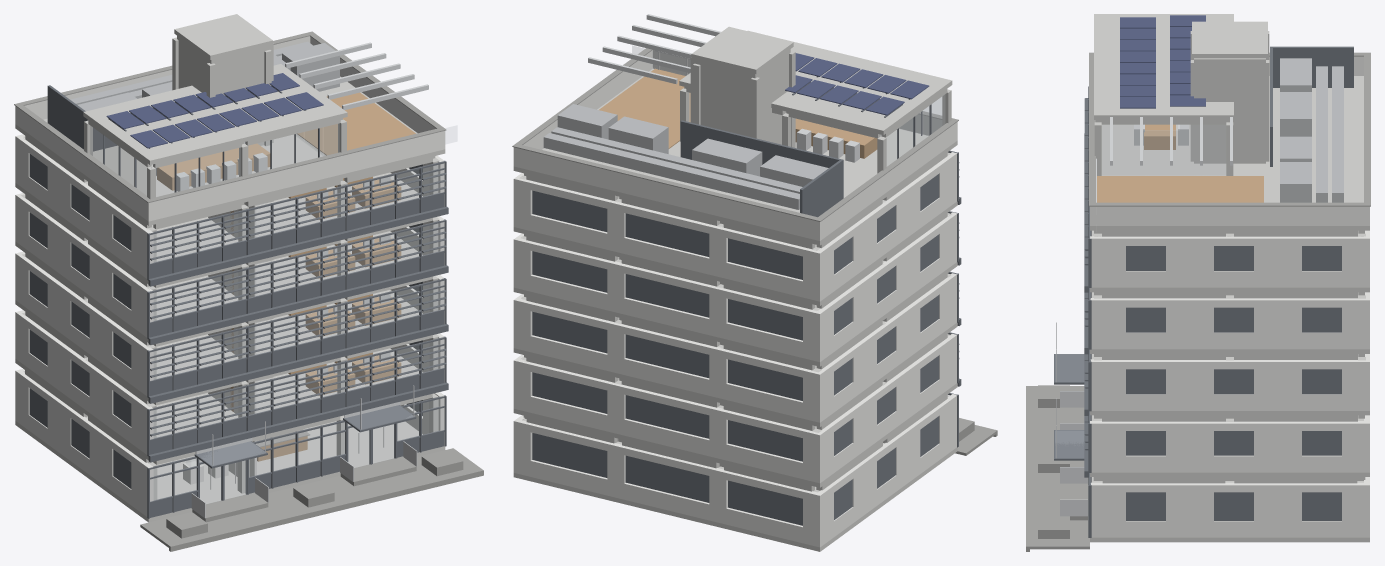
File: newton-from-floor-1.glb
3 views of the same model, side by side, from view 1: azimuth 30°, elevation 25°; view 2: azimuth 150°, elevation 25°; view 3: azimuth 270°, elevation 25° (orthographic). The views are drawn at different scales.
Visible parts, largest first — view 1: IFC IfcSlab 7173, IFC IfcSlab 5297, IFC IfcWall 18209, IFC IfcCovering 44681, IFC IfcSlab 5657, IFC IfcSlab 6377, IFC IfcSlab 6017, IFC IfcSlab 6737, IFC IfcSlab 7097, IFC IfcCovering 43161, IFC IfcSlab 7268, IFC IfcCovering 38741 (+65 smaller); view 2: IFC IfcWall 18228, IFC IfcSlab 7173, IFC IfcFlowSegment 44149, IFC IfcWall 7230, IFC IfcCovering 43161, IFC IfcSlab 7268, IFC IfcSlab 7116, IFC IfcWall 18247, IFC IfcWall 44187, IFC IfcWindow 13232, IFC IfcWindow 13308, IFC IfcWindow 13156 (+112 smaller); view 3: IFC IfcWall 7211, IFC IfcSlab 7173, IFC IfcWall 18266, IFC IfcSlab 7116, IFC IfcCovering 43161, IFC IfcCovering 44681, IFC IfcSlab 7097, IFC IfcSlab 7268, IFC IfcWall 12491, IFC IfcWall 12529, IFC IfcWall 13658, IFC IfcWall 13696 (+104 smaller).
Boxes of the visible parts, box(x1,y1,x2,y2) form: IFC IfcSlab 7173: box(83, 64, 347, 164); IFC IfcSlab 5297: box(99, 421, 445, 522); IFC IfcWall 18209: box(146, 131, 445, 221); IFC IfcCovering 44681: box(140, 448, 481, 547); IFC IfcSlab 5657: box(99, 349, 422, 459); IFC IfcSlab 6377: box(99, 231, 422, 342); IFC IfcSlab 6017: box(99, 290, 422, 401); IFC IfcSlab 6737: box(99, 173, 422, 284); IFC IfcSlab 7097: box(99, 114, 445, 225); IFC IfcCovering 43161: box(297, 92, 415, 155); IFC IfcSlab 7268: box(174, 14, 272, 59); IFC IfcCovering 38741: box(148, 206, 448, 286); IFC IfcWall 18228: box(513, 147, 822, 240); IFC IfcSlab 7173: box(679, 30, 952, 135); IFC IfcFlowSegment 44149: box(543, 133, 799, 209); IFC IfcWall 7230: box(690, 58, 757, 136); IFC IfcCovering 43161: box(599, 68, 690, 148); IFC IfcSlab 7268: box(691, 26, 793, 73); IFC IfcSlab 7116: box(513, 148, 871, 245); IFC IfcWall 18247: box(822, 124, 955, 238); IFC IfcWall 44187: box(680, 120, 843, 198); IFC IfcWindow 13232: box(625, 455, 709, 502); IFC IfcWindow 13308: box(532, 433, 607, 477); IFC IfcWindow 13156: box(728, 480, 802, 525); IFC IfcWall 7211: box(1194, 58, 1265, 163); IFC IfcSlab 7173: box(1094, 14, 1233, 119); IFC IfcWall 18266: box(1095, 206, 1364, 225); IFC IfcSlab 7116: box(1266, 76, 1369, 230); IFC IfcCovering 43161: box(1097, 176, 1263, 202); IFC IfcCovering 44681: box(1030, 386, 1089, 549); IFC IfcSlab 7097: box(1090, 124, 1193, 230); IFC IfcSlab 7268: box(1192, 21, 1267, 58); IFC IfcWall 12491: box(1166, 483, 1213, 537); IFC IfcWall 12529: box(1254, 483, 1301, 537); IFC IfcWall 13658: box(1166, 421, 1213, 472); IFC IfcWall 13696: box(1254, 421, 1301, 472).
Size of the model in its own units: 19.44 by 26.35 by 17.25.
